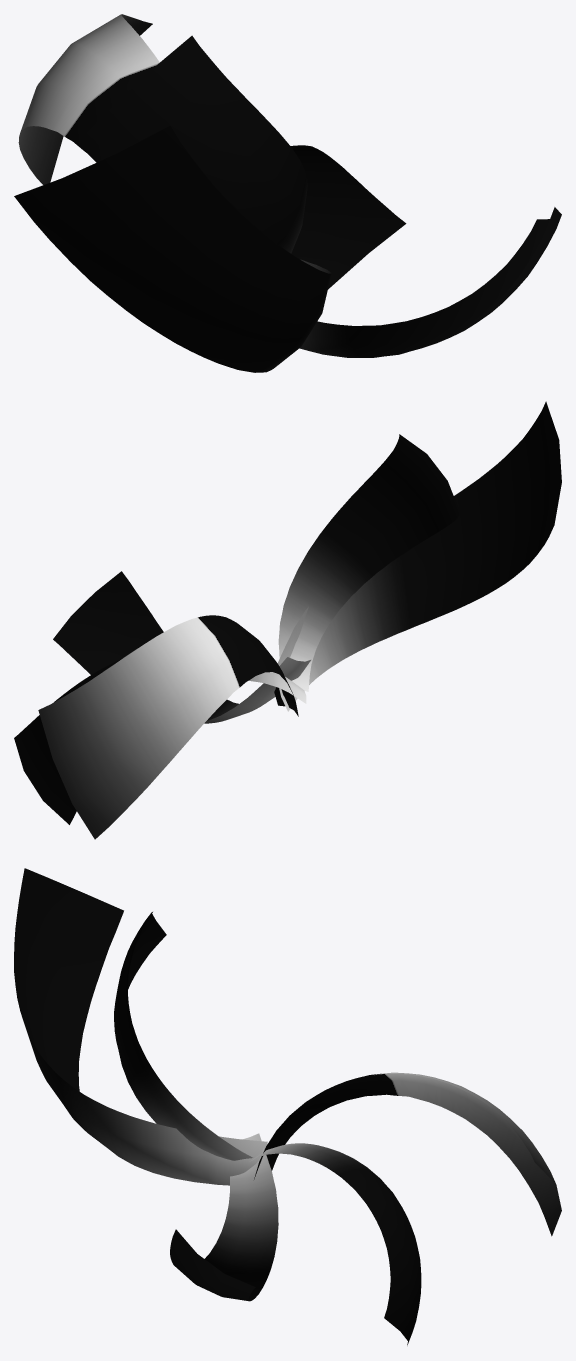
Rendered from Half_Lazermesh2.fbx.
The picture shows the model from 3 angles, top to bottom: view 1: azimuth 30°, elevation 25°; view 2: azimuth 150°, elevation 25°; view 3: azimuth 270°, elevation 25°; orthographic projection. The views are drawn at different scales.
Parts seen in each view (by area): view 1: HElix_Meshes002; view 2: HElix_Meshes002; view 3: HElix_Meshes002.
Part boxes in pixels (bbox=[...]): HElix_Meshes002: bbox=[14, 14, 561, 372]; HElix_Meshes002: bbox=[14, 401, 561, 839]; HElix_Meshes002: bbox=[14, 868, 561, 1345].
Bounding box in the file's own units: 66.29 × 51.05 × 73.71.
1 material, 1 textured.
